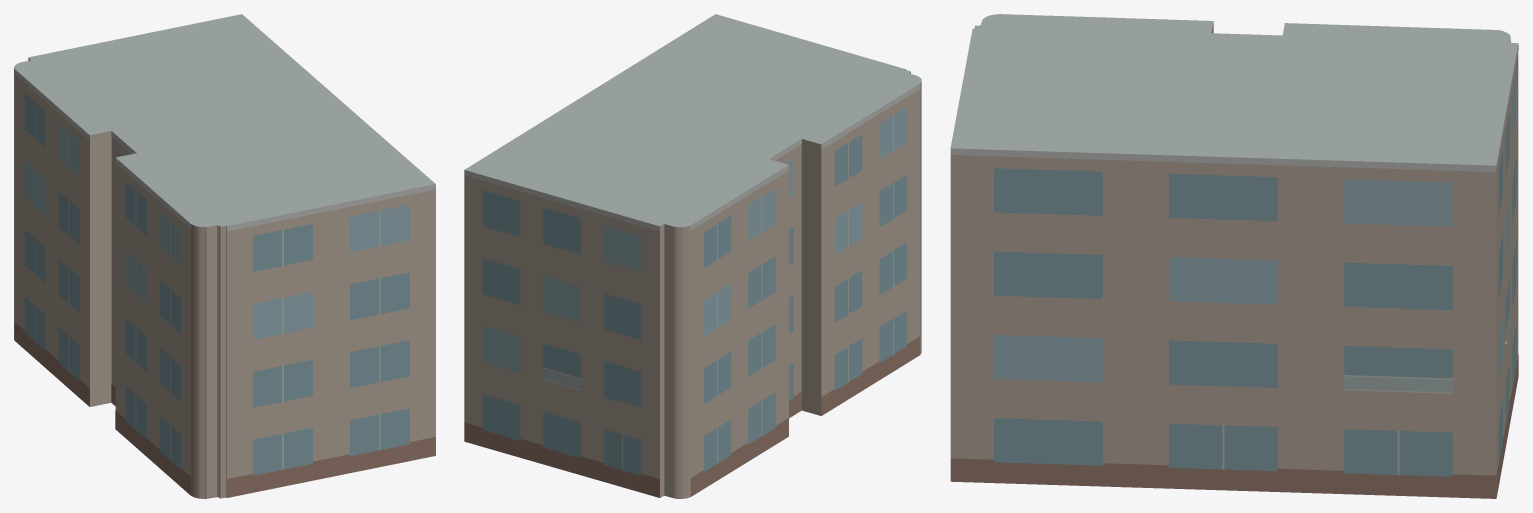
Rendered from survey-upis-32668084.glb.
3 renders of one model, left to right at view 1: azimuth 30°, elevation 25°; view 2: azimuth 150°, elevation 25°; view 3: azimuth 270°, elevation 25°, orthographic. The views are drawn at different scales.
Visible parts, largest first — view 1: survey-upis-32668084.tmp; view 2: survey-upis-32668084.tmp; view 3: survey-upis-32668084.tmp.
Part boxes in pixels (x1=…): survey-upis-32668084.tmp: x1=14, y1=14, x2=435, y2=498; survey-upis-32668084.tmp: x1=464, y1=14, x2=921, y2=498; survey-upis-32668084.tmp: x1=950, y1=14, x2=1518, y2=498.
Bounding box in the file's own units: 12.11 × 12.4 × 19.17.
